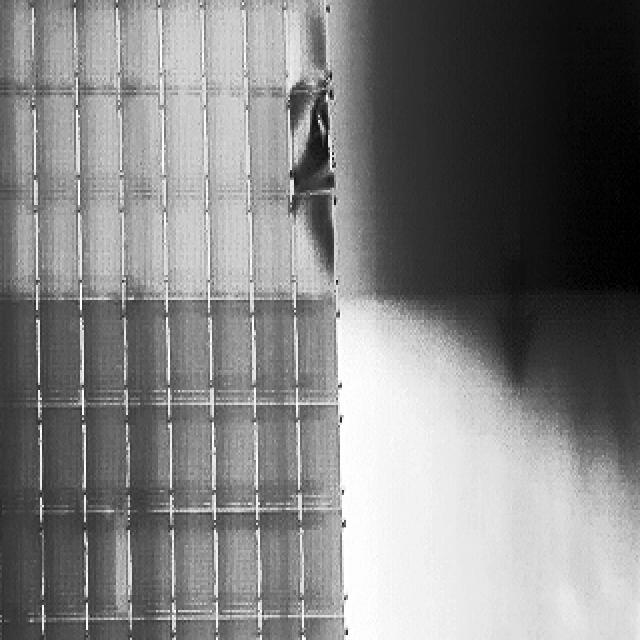PV-modules: (118, 401, 166, 512), (208, 296, 257, 401), (248, 402, 295, 510), (32, 94, 80, 198), (251, 512, 298, 618), (121, 514, 168, 620), (41, 512, 87, 619), (294, 298, 339, 405), (166, 197, 211, 304), (163, 92, 209, 196), (41, 408, 86, 514), (170, 402, 214, 510), (82, 402, 125, 512), (79, 296, 124, 401), (249, 92, 294, 196), (172, 514, 217, 618), (296, 408, 341, 512), (76, 196, 120, 302), (84, 513, 128, 619), (40, 299, 84, 404), (299, 512, 342, 619), (252, 302, 296, 406), (205, 193, 249, 297), (38, 197, 82, 301), (213, 407, 256, 513), (120, 92, 164, 195), (76, 94, 120, 197), (251, 194, 295, 296), (123, 299, 167, 401), (214, 514, 258, 616), (203, 94, 246, 198), (122, 192, 164, 298), (0, 510, 40, 620), (292, 192, 333, 298), (287, 91, 328, 196), (170, 300, 213, 400), (246, 2, 291, 96), (74, 1, 119, 94), (0, 402, 38, 510), (32, 1, 76, 94), (119, 1, 162, 94), (162, 1, 205, 94), (201, 1, 243, 96), (284, 0, 326, 92), (0, 298, 36, 402), (0, 195, 34, 300), (0, 93, 32, 195), (0, 0, 34, 92), (172, 615, 218, 640), (304, 615, 348, 640), (254, 617, 300, 640), (216, 617, 260, 640), (86, 620, 132, 640), (124, 620, 170, 640), (44, 622, 90, 640), (2, 622, 48, 640)
